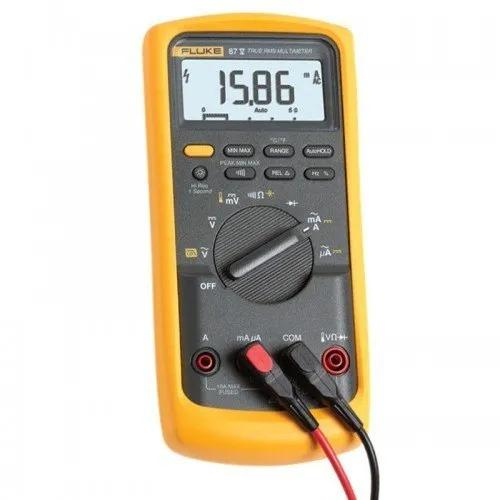multimeter: (145, 11, 395, 500)
